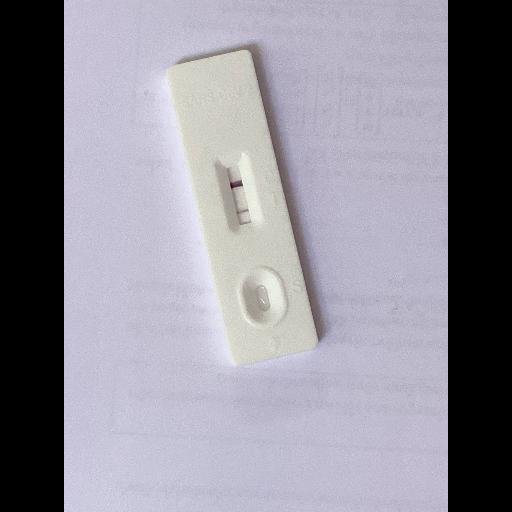Pos: (168, 47, 320, 368)
